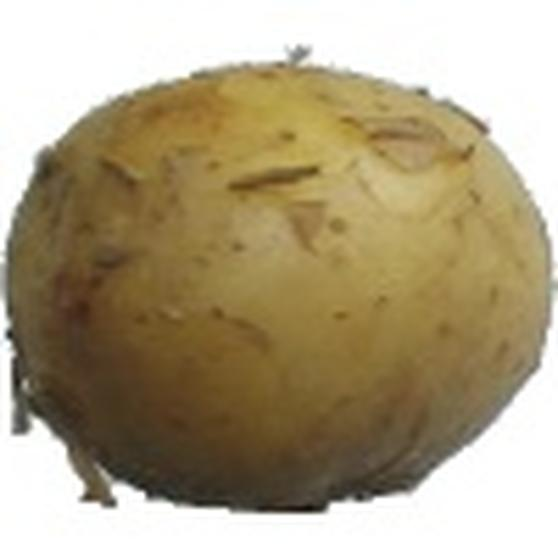potato: (12, 66, 551, 509)
